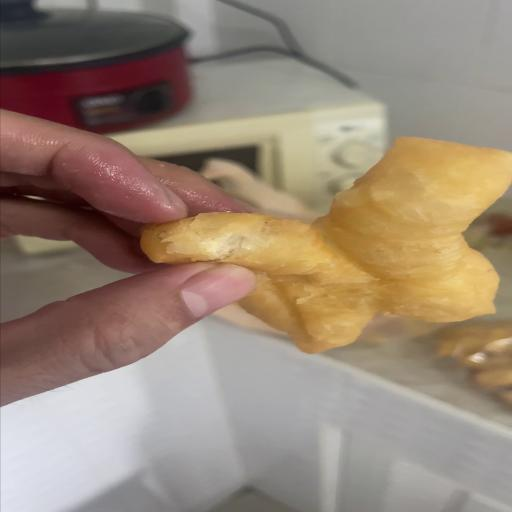street_golden_defect: (144, 137, 501, 353)
